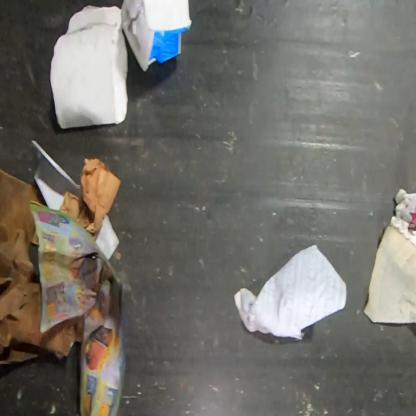cardboard: (0, 168, 85, 365), (49, 4, 130, 130), (121, 0, 192, 72)
